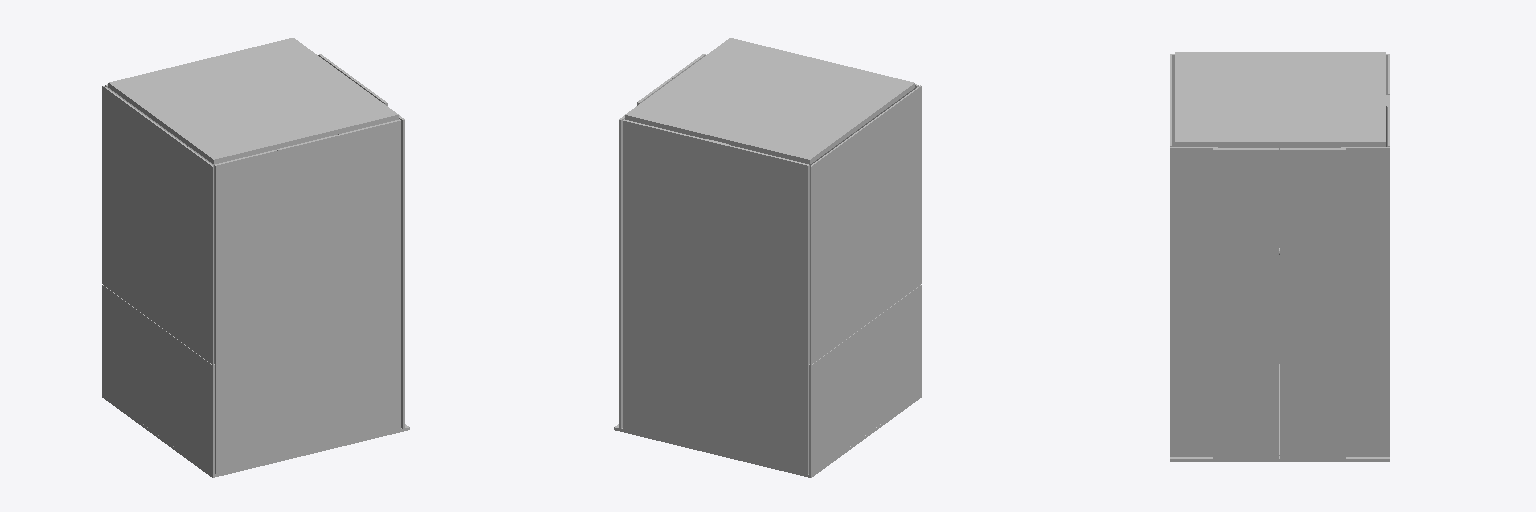
Rendered from Lift 5.obj.
3 renders of one model, left to right at view 1: azimuth 30°, elevation 25°; view 2: azimuth 150°, elevation 25°; view 3: azimuth 270°, elevation 25°, orthographic.
Visible parts, largest first — view 1: ______006, ________5, Object008, 010; view 2: ______006, ________5, Rectangle006, Object008, 010; view 3: ______006, ________5, 010.
Boxes of the visible parts, box(x1,y1,x2,y2) form: ______006: box(102, 54, 404, 474); ________5: box(108, 38, 398, 164); Object008: box(135, 309, 179, 450); 010: box(102, 395, 409, 477); ______006: box(619, 54, 921, 474); ________5: box(625, 38, 914, 164); Rectangle006: box(703, 139, 728, 454); Object008: box(844, 309, 888, 450); 010: box(614, 395, 921, 477); ______006: box(1170, 54, 1389, 458); ________5: box(1175, 52, 1385, 146); 010: box(1170, 456, 1389, 461).
Size of the model in its own units: 604 by 924 by 587.